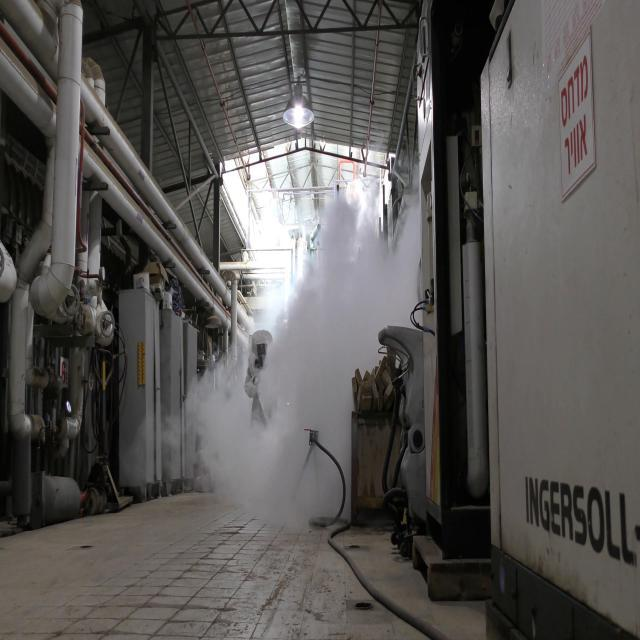fire: (179, 187, 426, 528)
